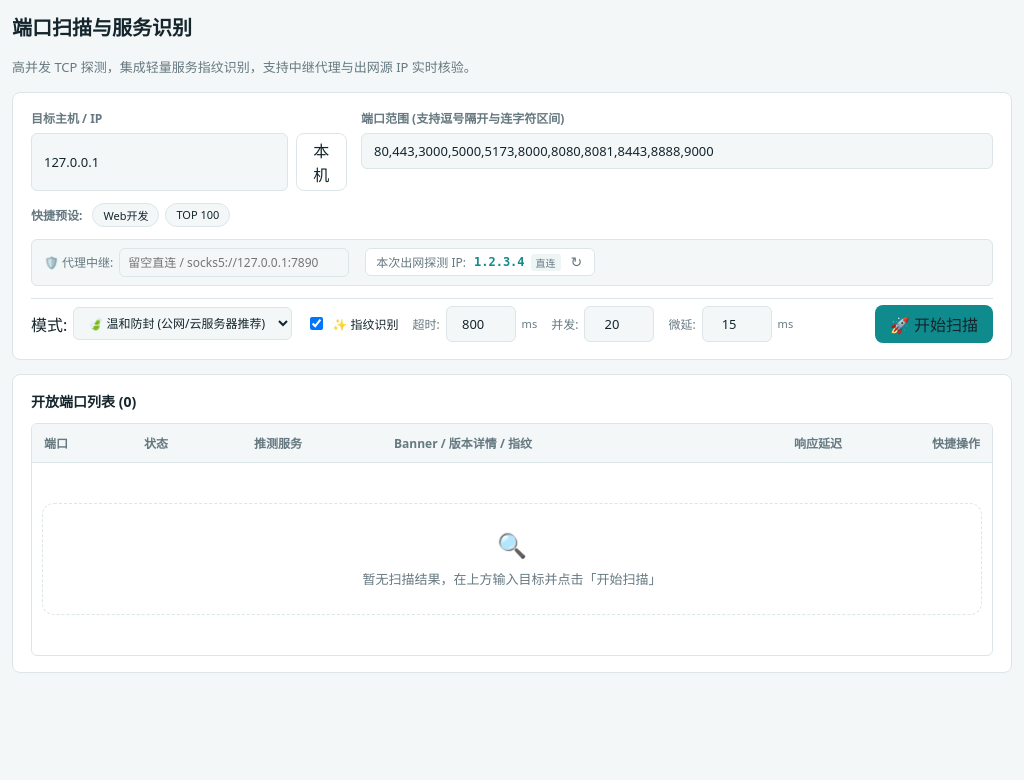
PortScanView 扫描链路 › 完整扫描：summary 回填进度/耗时/结果行与条件打开按钮
What coordinates should you click on to do the following:
click the button "🚀 开始扫描"
I would click on:
 (934, 324)
Its box is [875,305,993,343].
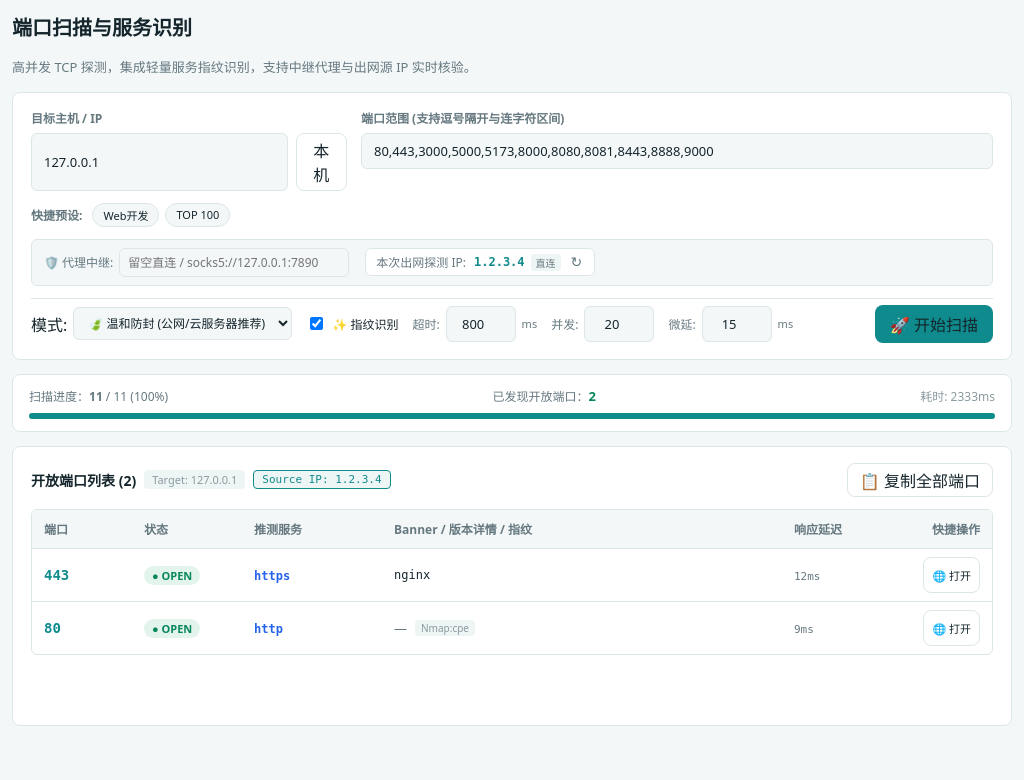
Expected: the element showing "扫描进度：11 / 11 (100%) 已发现开放端口：2 耗时: 2333ms" is shown, [29,387,995,405]
Expected: the text with class "duration-tag" shows "2333ms", [920,388,995,405]
Expected: the row "443 ● OPEN https nginx 12ms 🌐 打开" is shown, [32,548,992,601]
